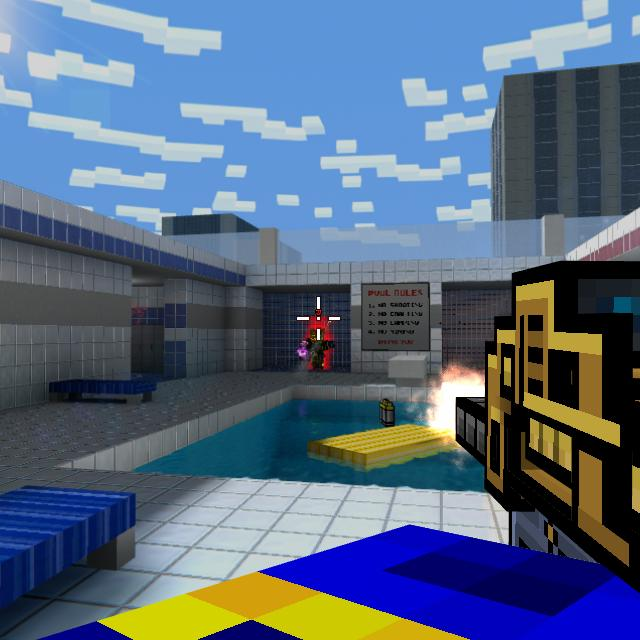Enemy: (306, 328, 335, 370)
